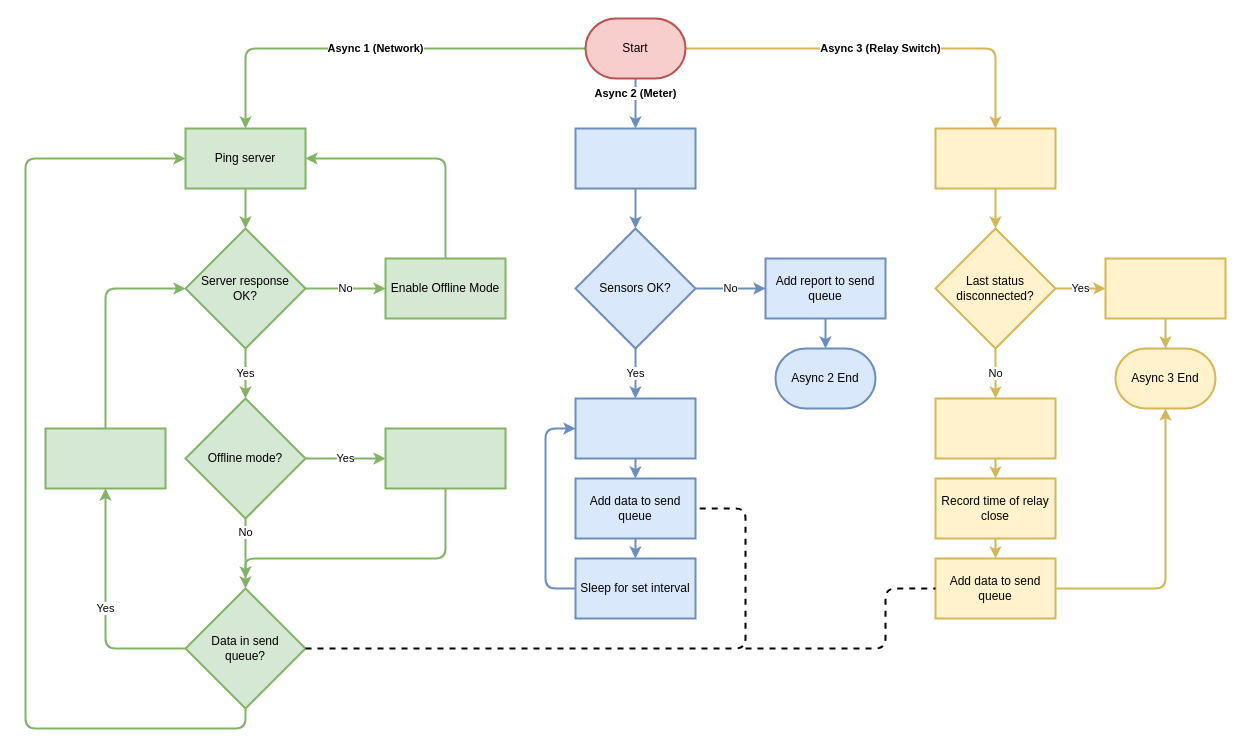
Some shapes in this 1243 by 754 pixel diagram are drawn without their labels. The shapes that lost their labels are listed below. From the top down, each one's centre as x and y in pixels, then its label:
At (x=635, y=158): "Initialize sensors".
At (x=995, y=158): "Check logs for last activity status".
At (x=1165, y=288): "Do nothing".
At (x=635, y=428): "Record sensor data".
At (x=995, y=428): "Set relay to Closed".
At (x=105, y=458): "Send data to server".
At (x=445, y=458): "Disable Offline Mode".
